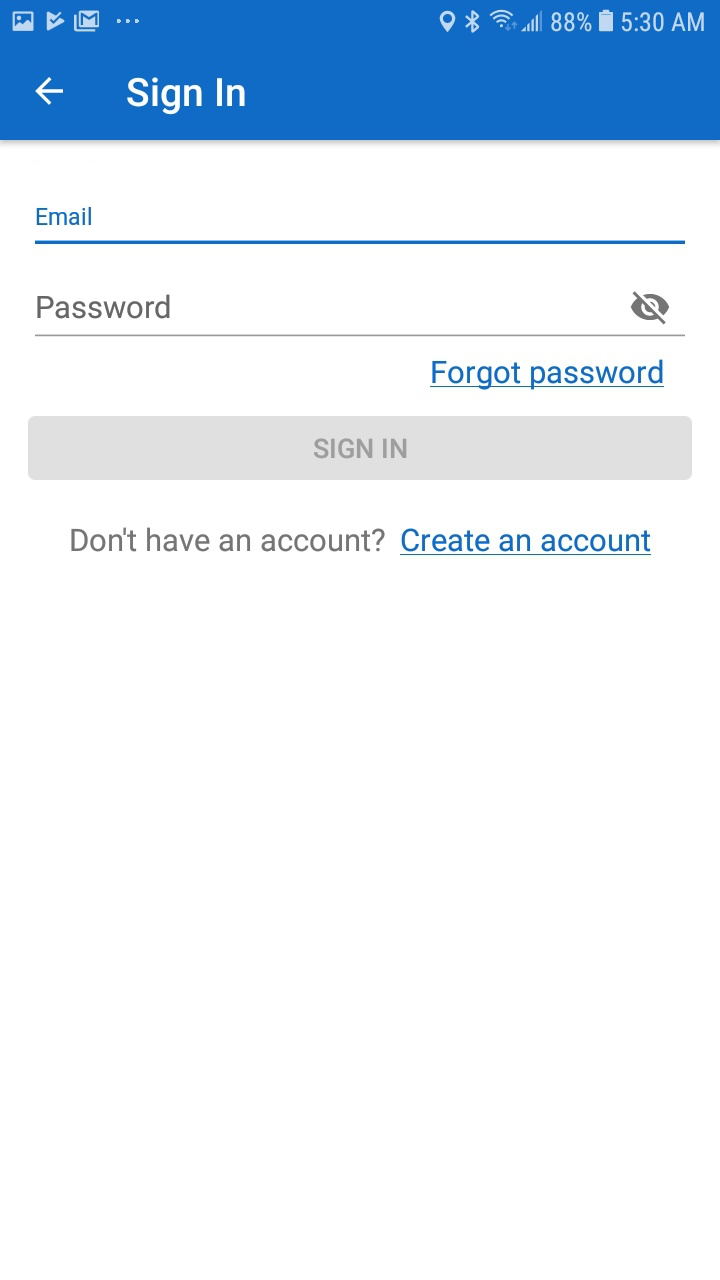EditText: (35, 291, 685, 338), (35, 207, 686, 245)
Icon: (630, 291, 670, 326), (35, 77, 65, 107)
Text: (71, 527, 386, 553), (430, 359, 665, 391), (400, 528, 652, 556), (127, 77, 246, 116), (37, 294, 171, 320), (37, 208, 93, 227)
TextButton: (29, 416, 692, 481)
UpperTaskBar: (1, 1, 720, 35)
